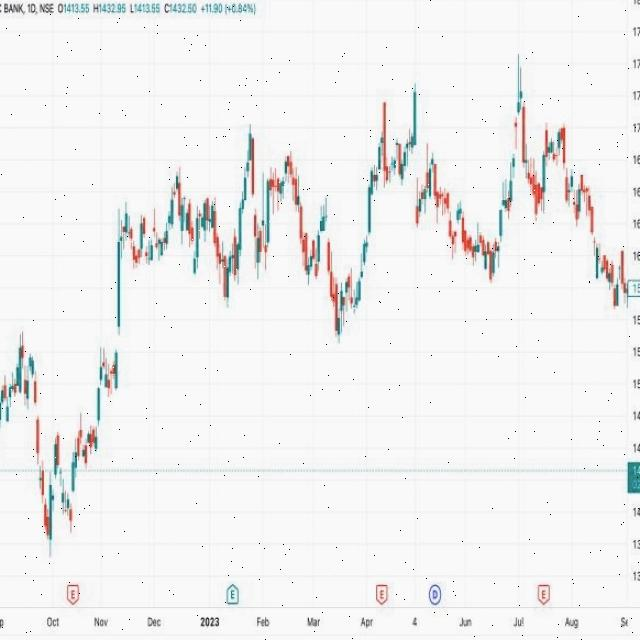Gap Down: (590, 205, 600, 279), (251, 137, 258, 236), (562, 124, 570, 208), (34, 448, 48, 483), (34, 378, 42, 436), (40, 492, 49, 512)
Gap Up: (509, 92, 526, 184), (114, 242, 122, 390), (93, 370, 101, 448), (358, 244, 367, 304), (68, 472, 76, 528), (364, 192, 370, 248)
